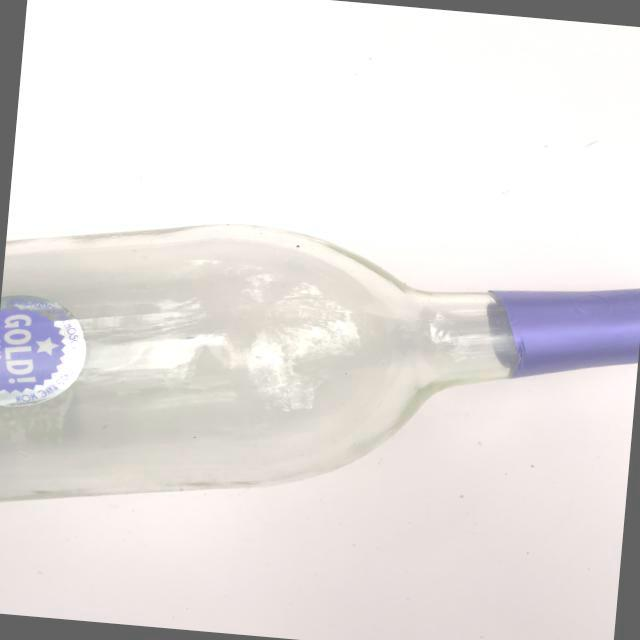glass: (0, 189, 640, 583)
